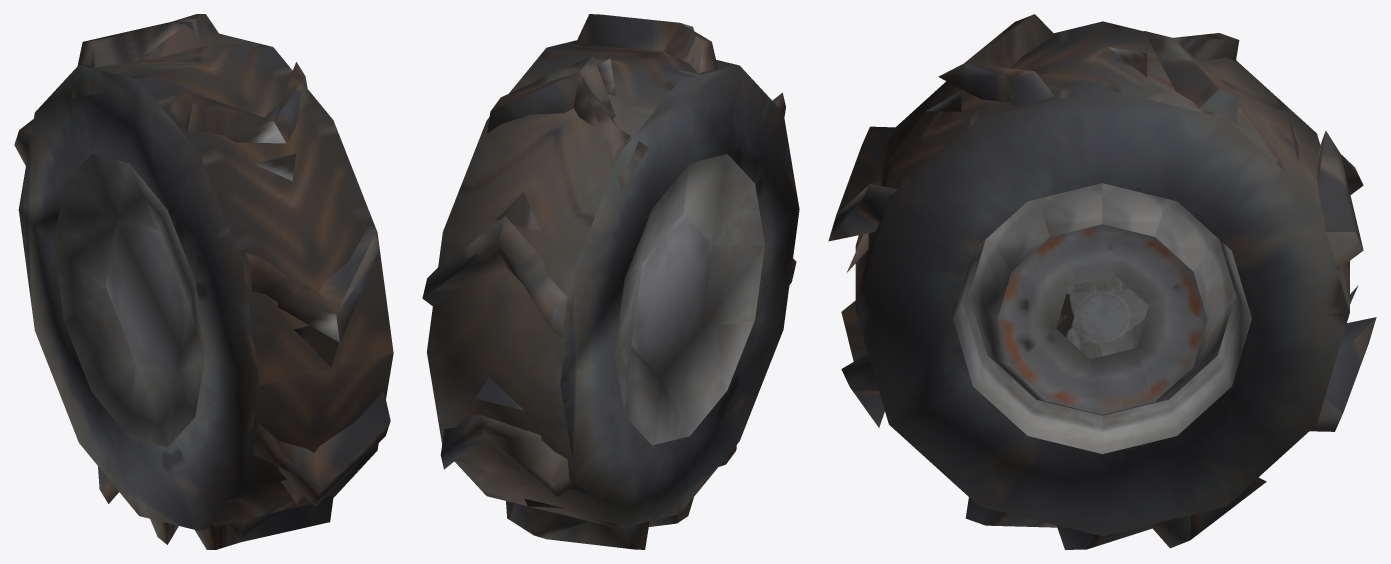
Rendered from tyre-v3.glb.
The picture shows the model from 3 angles, left to right: view 1: azimuth 30°, elevation 25°; view 2: azimuth 150°, elevation 25°; view 3: azimuth 270°, elevation 25°; orthographic projection. The views are drawn at different scales.
Parts seen in each view (by area): view 1: lvl1_tyre_03.015; view 2: lvl1_tyre_03.015; view 3: lvl1_tyre_03.015.
Part boxes in pixels (x1,y1,x2,y2): lvl1_tyre_03.015: (14, 14, 393, 549); lvl1_tyre_03.015: (422, 14, 799, 549); lvl1_tyre_03.015: (828, 14, 1376, 549).
Size of the model in its own units: 0.545 by 1.61 by 1.61.
1 material, 1 textured.
